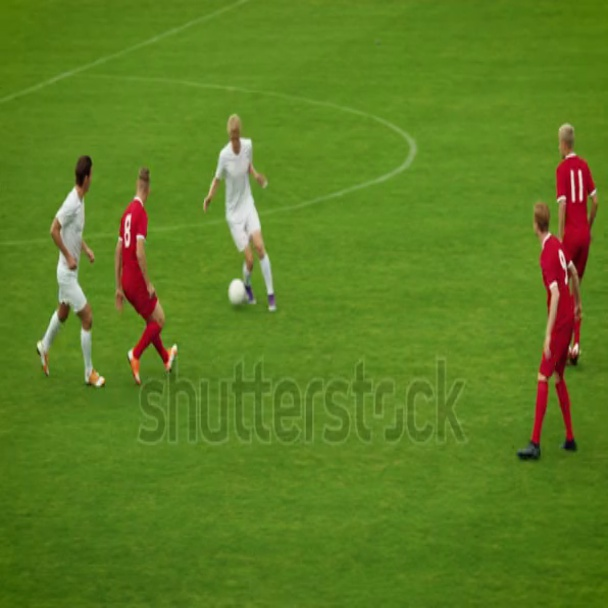ball: (230, 276, 247, 311)
